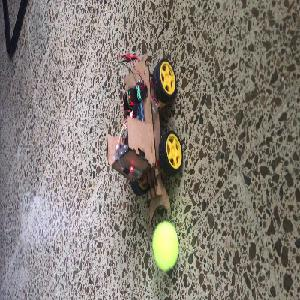Ball: (151, 220, 179, 273)
Robot: (106, 52, 184, 225)
